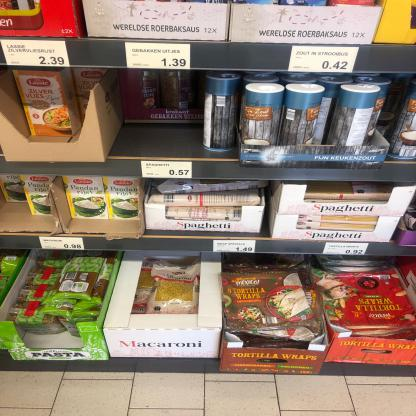prtg: (1, 41, 71, 67), (290, 47, 359, 73), (126, 44, 191, 70), (142, 162, 193, 179), (40, 238, 85, 250), (215, 241, 257, 253), (324, 244, 369, 255)
